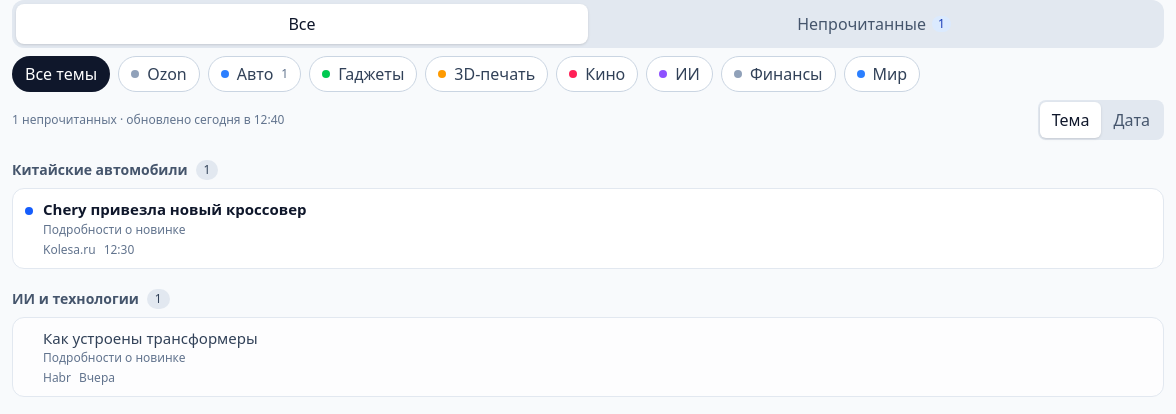
it: экран «Новости» › фильтр «Непрочитанные» и счётчик показывают одно число
The width and height of the screenshot is (1176, 414).
Click the tab "Непрочитанные 1".
click(874, 24)  # box [588,4,1160,44]
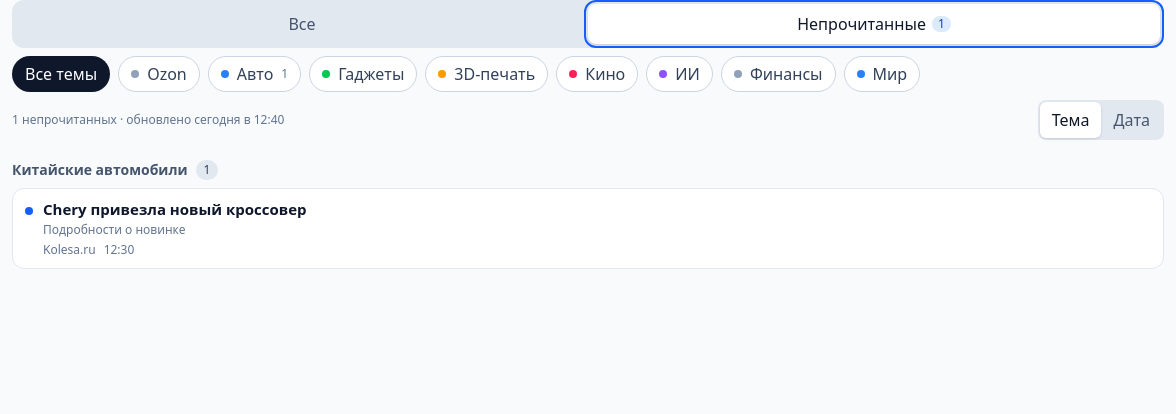
Expected: the link "Как устроены трансформеры" is gone
